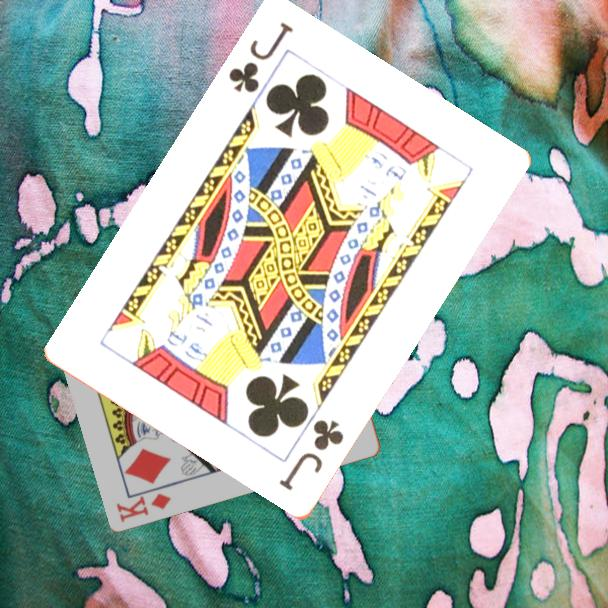c11: (275, 416, 347, 495), (225, 19, 297, 97)
d13: (113, 489, 174, 525)
